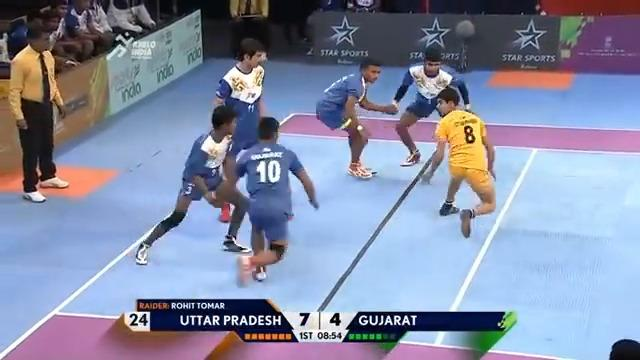Player: (134, 103, 252, 265), (232, 115, 319, 286), (211, 37, 269, 222), (315, 58, 399, 179), (391, 46, 471, 167)
Raider: (420, 86, 497, 237)
referee: (7, 20, 70, 202)
